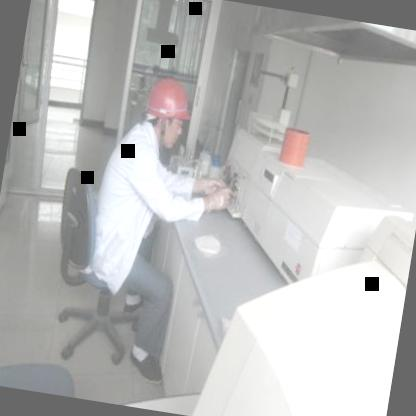helmet: (138, 69, 204, 160)
